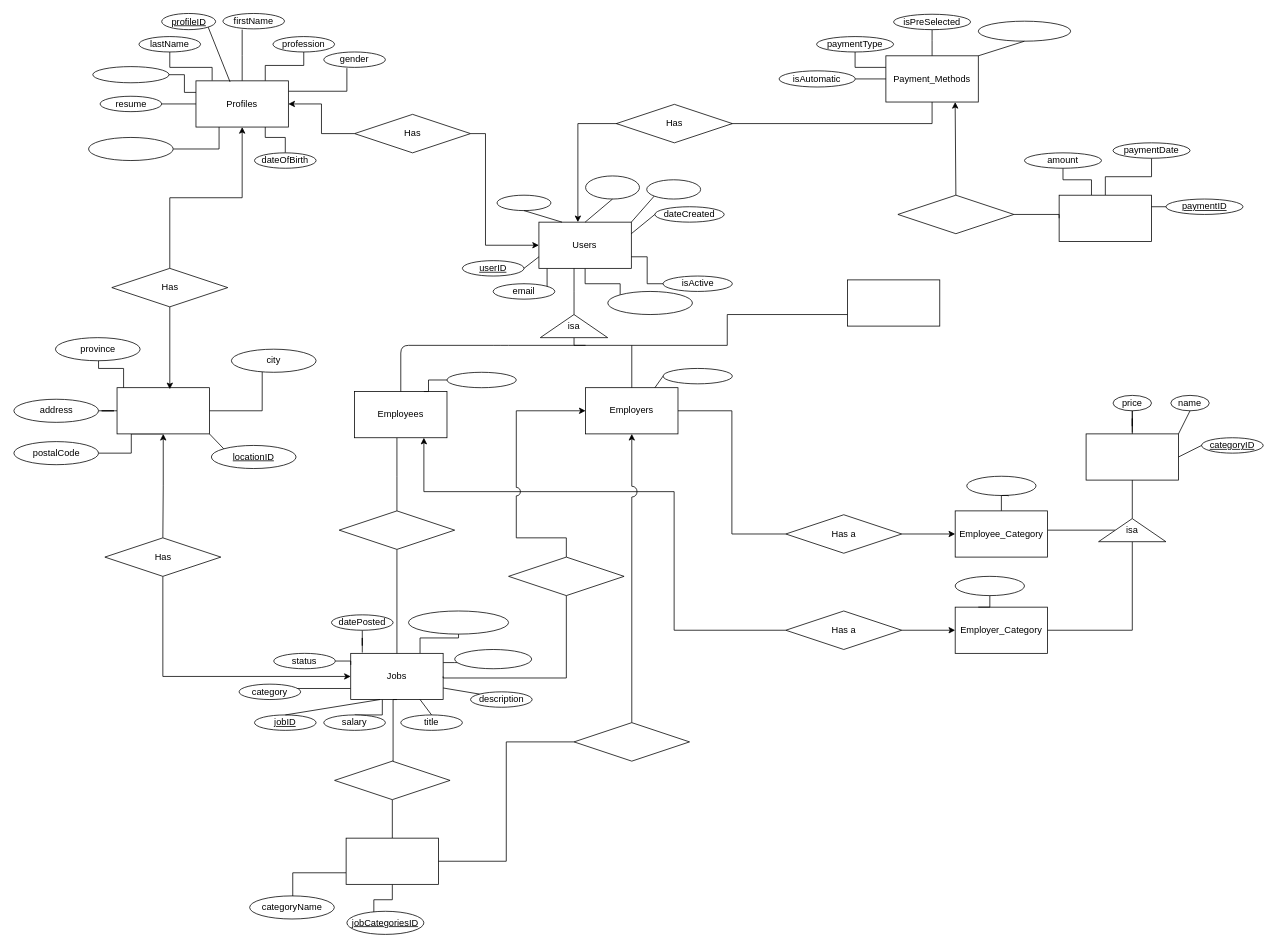
The diagram is 1277 pixels wide and 948 high, and some of its shapes have lost their labels. The centre of each missing label's shape, as x and y in pixels:
Administators: the point at 893,302
Applies To: the point at 396,529
applyCount: the point at 481,380
applyLimit: the point at 1001,485
balance: the point at 523,202
Categories: the point at 1131,456
companyName: the point at 493,659
Create: the point at 631,741
displayPicture: the point at 130,74
Job_Categories: the point at 392,860
Location: the point at 162,410
Paid by: the point at 955,214
password: the point at 673,189
paymentMethodID: the point at 1024,30
Payments: the point at 1105,217
phoneNumber: the point at 130,149
positionsAvailable: the point at 458,622
postCount: the point at 697,376
postLimit: the point at 989,586
Posts: the point at 566,576
startSufferingDate: the point at 649,303
Type of: the point at 392,780
username: the point at 612,187
